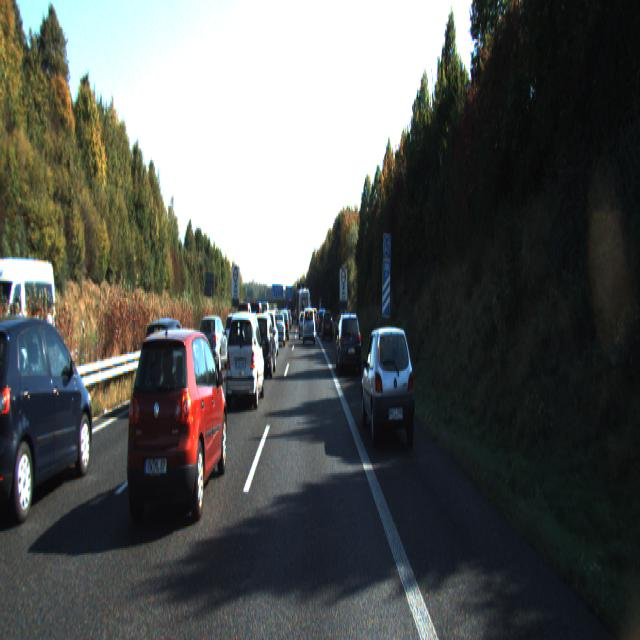Car: (120, 322, 230, 536), (0, 307, 95, 532), (361, 322, 417, 452), (0, 257, 60, 372), (138, 317, 192, 415), (223, 309, 265, 409), (247, 312, 276, 380), (196, 315, 228, 376), (336, 310, 363, 374), (225, 315, 246, 361), (248, 298, 264, 339), (303, 308, 316, 347), (273, 313, 287, 347), (323, 311, 334, 341), (318, 311, 327, 338)
